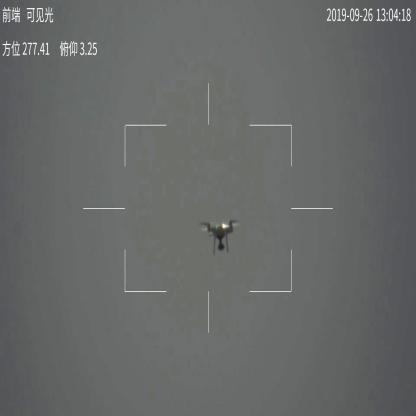uav: (198, 215, 238, 255)
